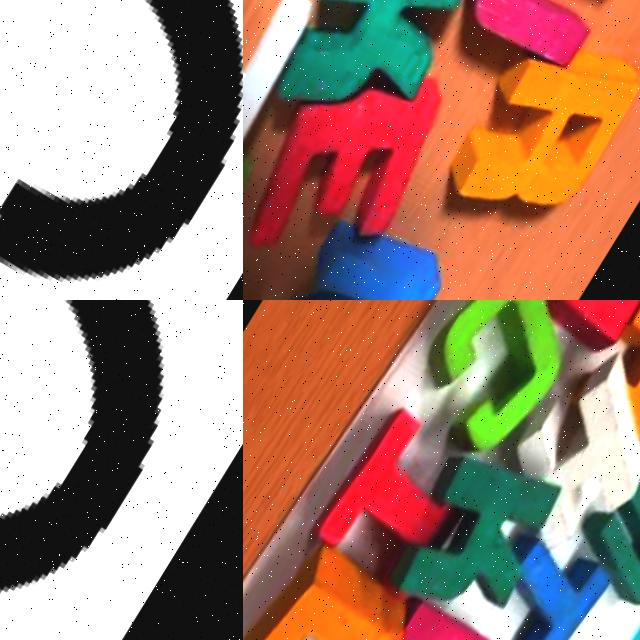A: (347, 585, 509, 640)
C: (0, 0, 243, 276), (384, 300, 602, 476)
E: (243, 35, 464, 300)
H: (463, 321, 640, 582)
K: (379, 422, 574, 633), (248, 0, 503, 160)
L: (243, 530, 422, 640)
M: (575, 438, 640, 604)
N: (258, 206, 453, 300)
R: (431, 0, 640, 256)
T: (468, 515, 623, 640)
U: (443, 0, 640, 84)
Z: (243, 0, 329, 195)
